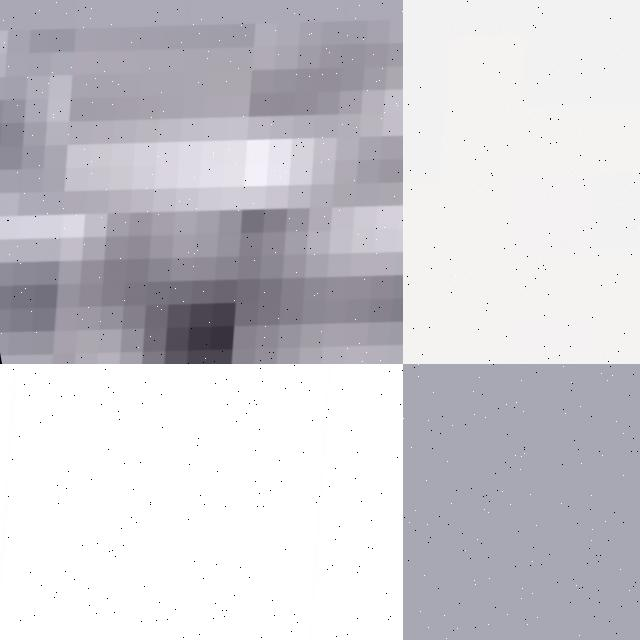drone: (0, 0, 403, 364), (0, 364, 403, 640), (403, 0, 640, 364)
